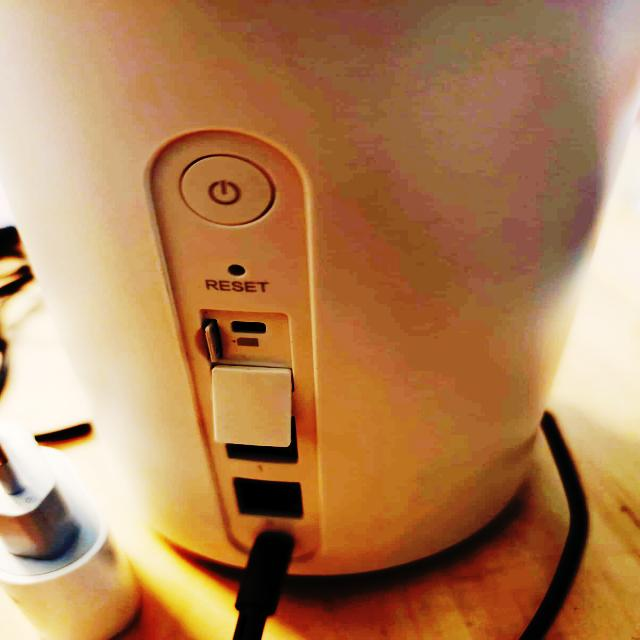lan: (226, 474, 312, 524)
modem: (22, 0, 640, 578)
onbutton: (180, 153, 276, 225)
